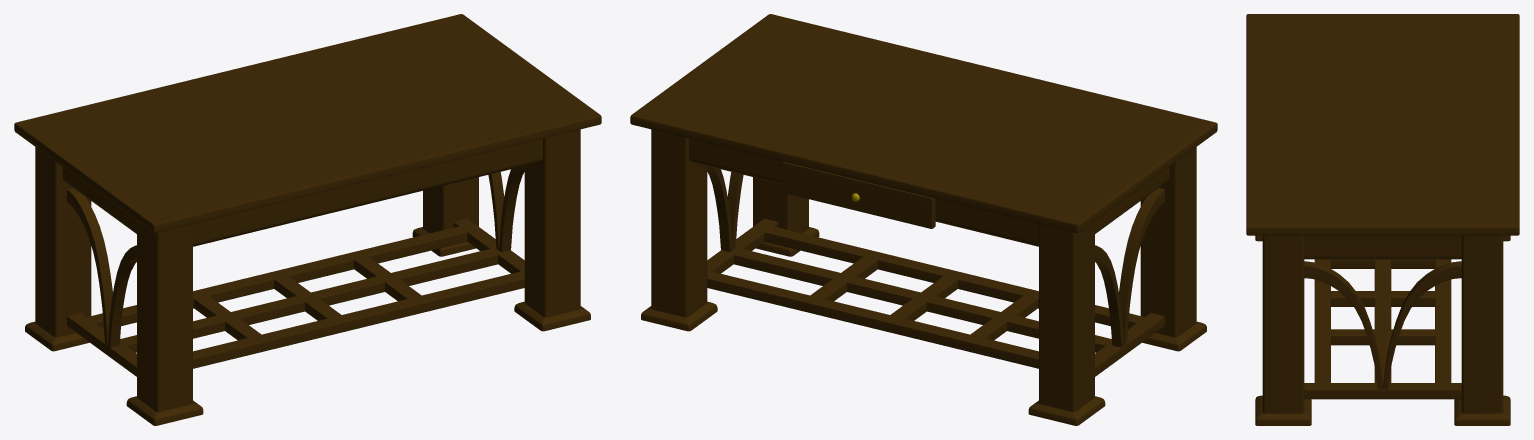
Rendered from Table.fbx.
The picture shows the model from 3 angles, left to right: view 1: azimuth 30°, elevation 25°; view 2: azimuth 150°, elevation 25°; view 3: azimuth 270°, elevation 25°; orthographic projection. The views are drawn at different scales.
Parts seen in each view (by area): view 1: Tabletop, legs, attachments; view 2: Tabletop, legs, attachments, Drawer; view 3: Tabletop, legs, attachments.
Part boxes in pixels (box(x1,y1,x2,y2)): Tabletop: box(14, 14, 601, 246); legs: box(25, 129, 590, 425); attachments: box(67, 166, 524, 376); Tabletop: box(630, 14, 1217, 246); legs: box(641, 129, 1206, 425); attachments: box(707, 166, 1164, 376); Drawer: box(782, 161, 935, 228); Tabletop: box(1246, 14, 1519, 259); legs: box(1255, 235, 1510, 425); attachments: box(1304, 259, 1461, 399).
Size of the model in its own units: 168 by 73.9 by 90.91.
